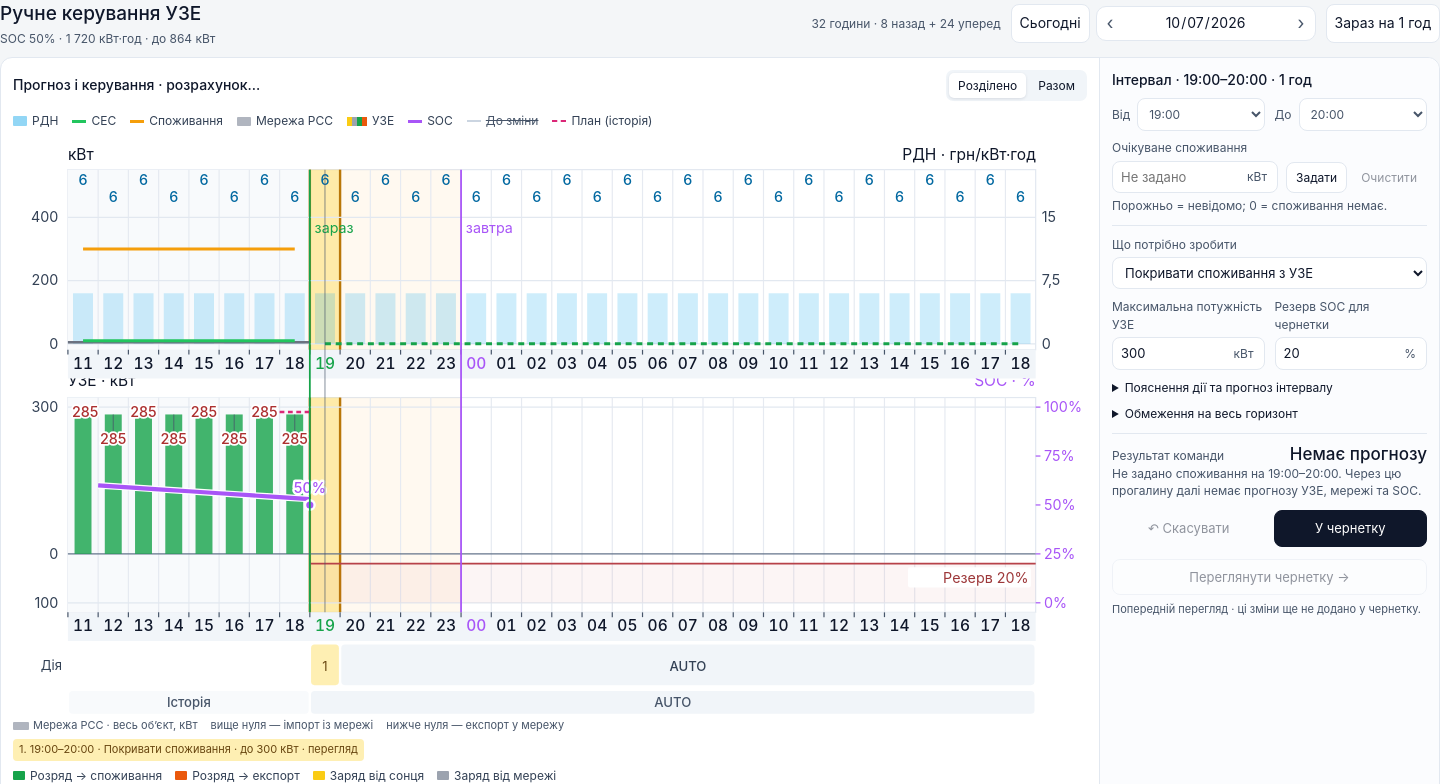
Scenario: DispatchDesk › opens a past day read-only and returns to the draft
expect the heading "Ручне керування УЗЕ" is shown: met, box x1=0 y1=0 x2=215 y2=28
Type "200" into the number field named "Споживання для вибраних годин". click: (1176, 177)
box: x1=1113 y1=162 x2=1239 y2=192
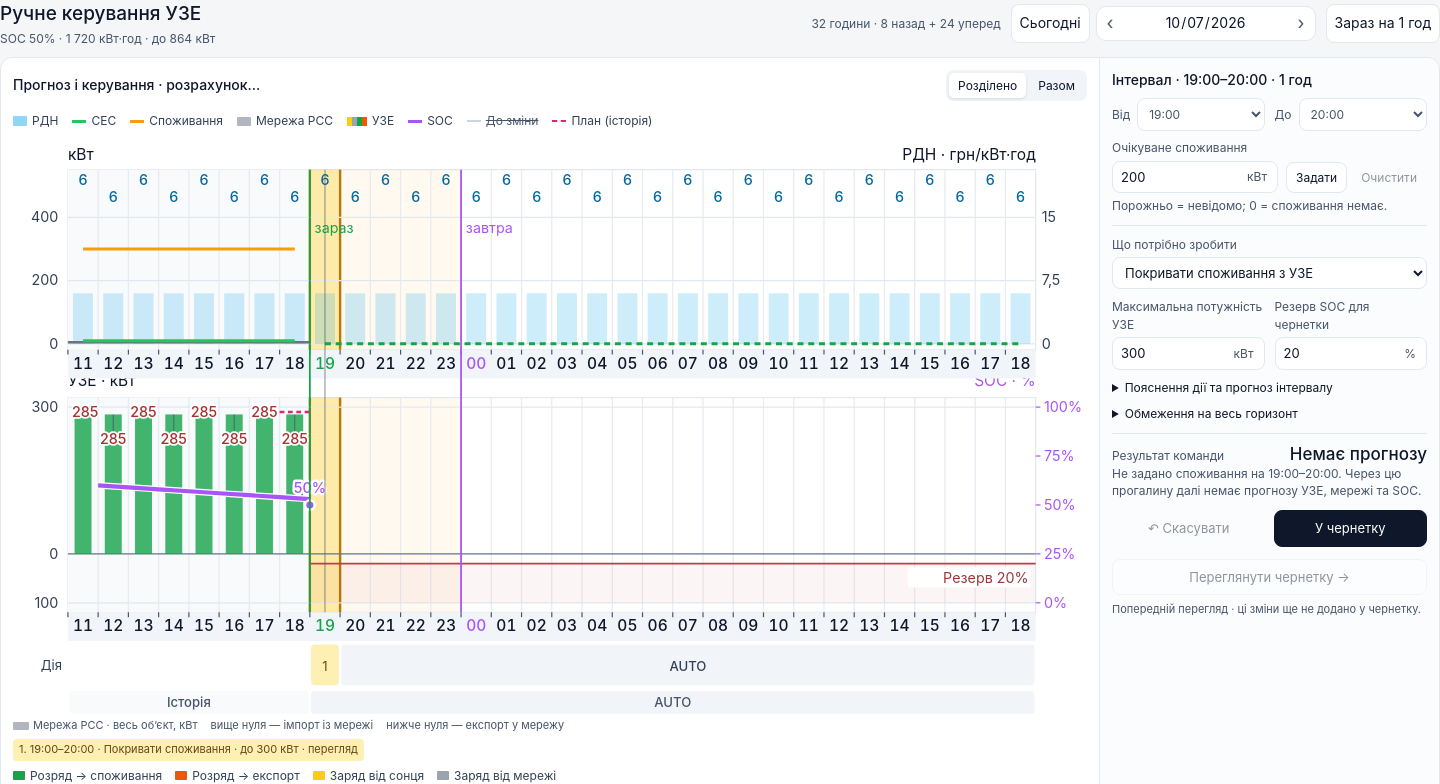
Click the button with aria-label "Задати споживання для вибраного інтервалу". click: (1317, 178)
box: x1=1286 y1=162 x2=1347 y2=194
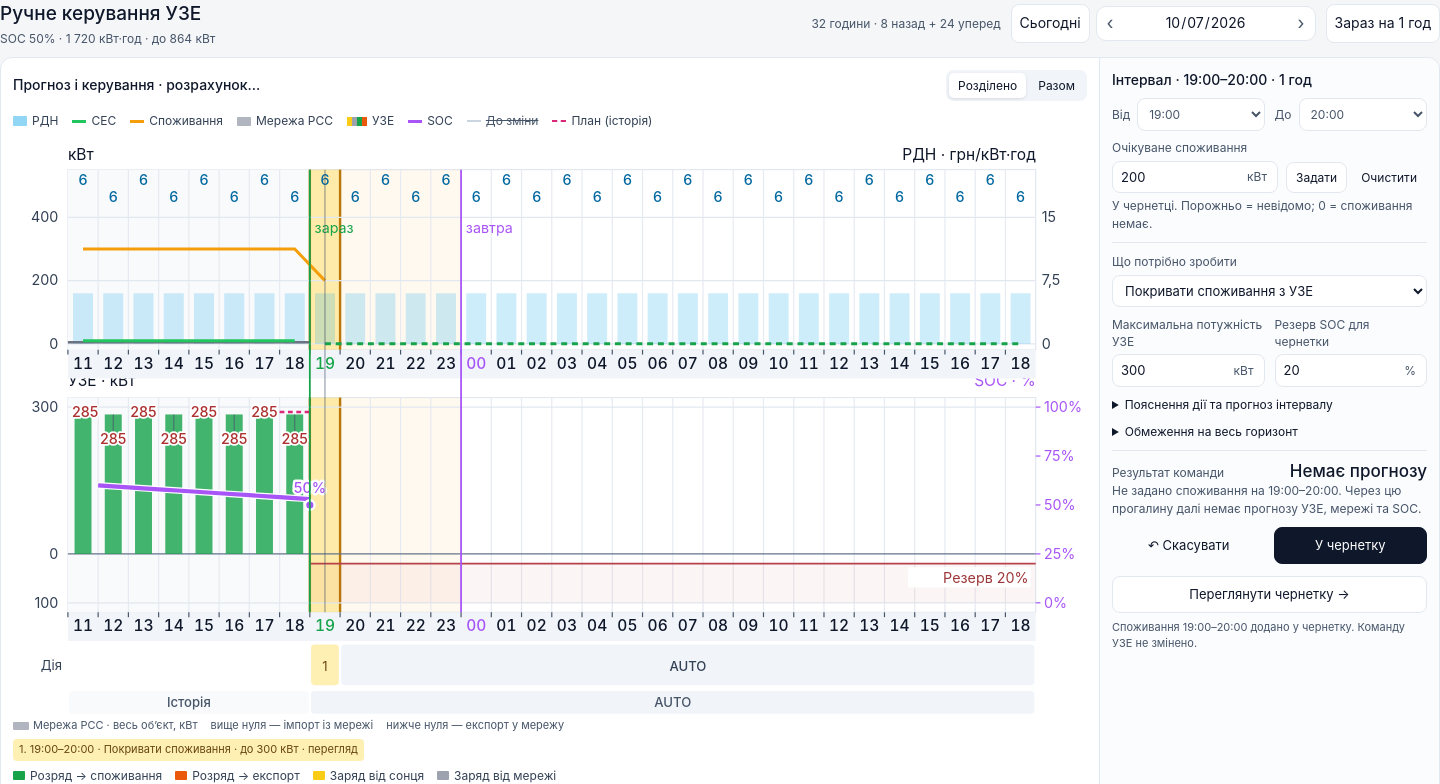
Note: The dashboard date picker: «‹» from today opens yesterday read-only.
Click the button named "Previous period". click: (1110, 24)
box: x1=1098 y1=10 x2=1121 y2=36
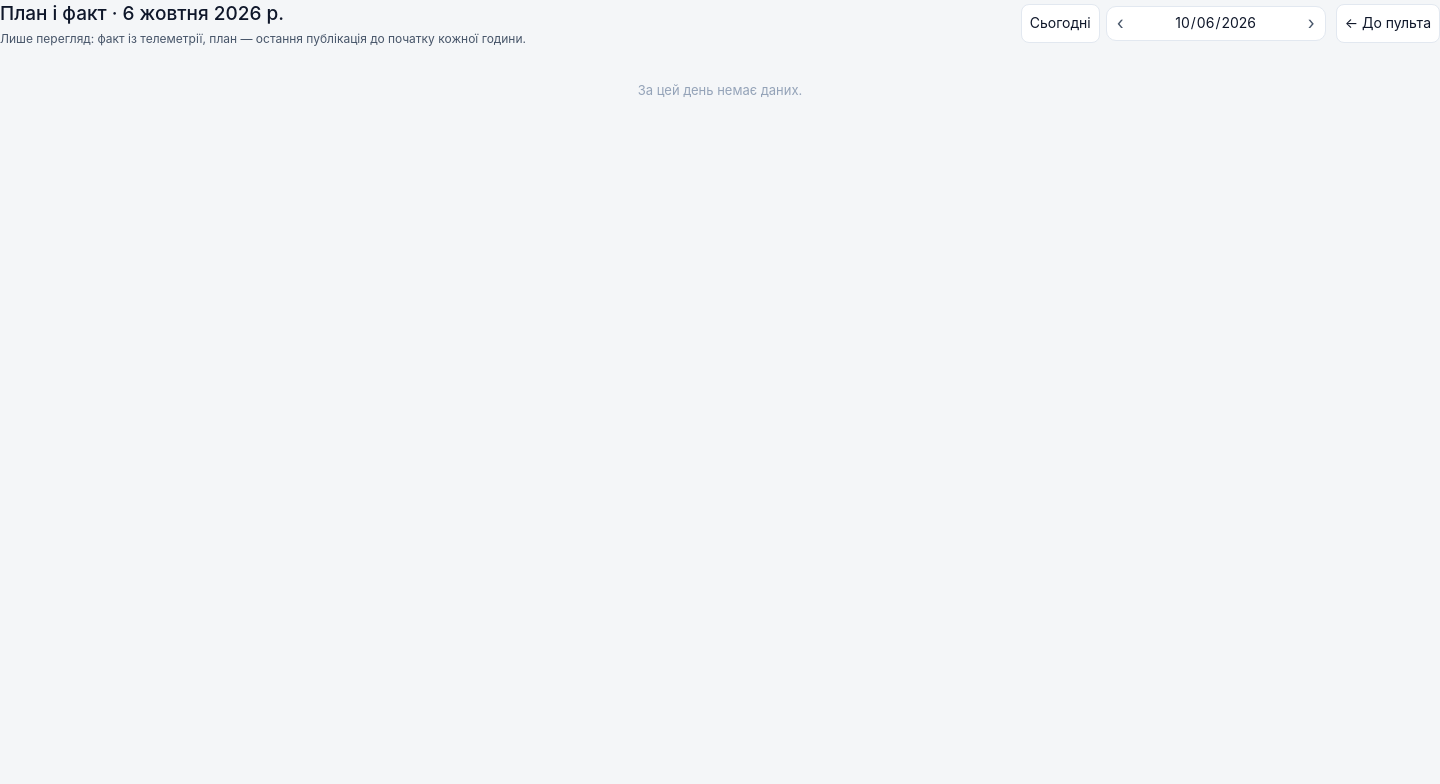
expect the text "За цей день немає даних." is shown: met, box x1=638 y1=82 x2=802 y2=98
expect the button "У чернетку" is gone: met
Click the button "← До пульта". click: (1388, 23)
box: x1=1336 y1=4 x2=1439 y2=43
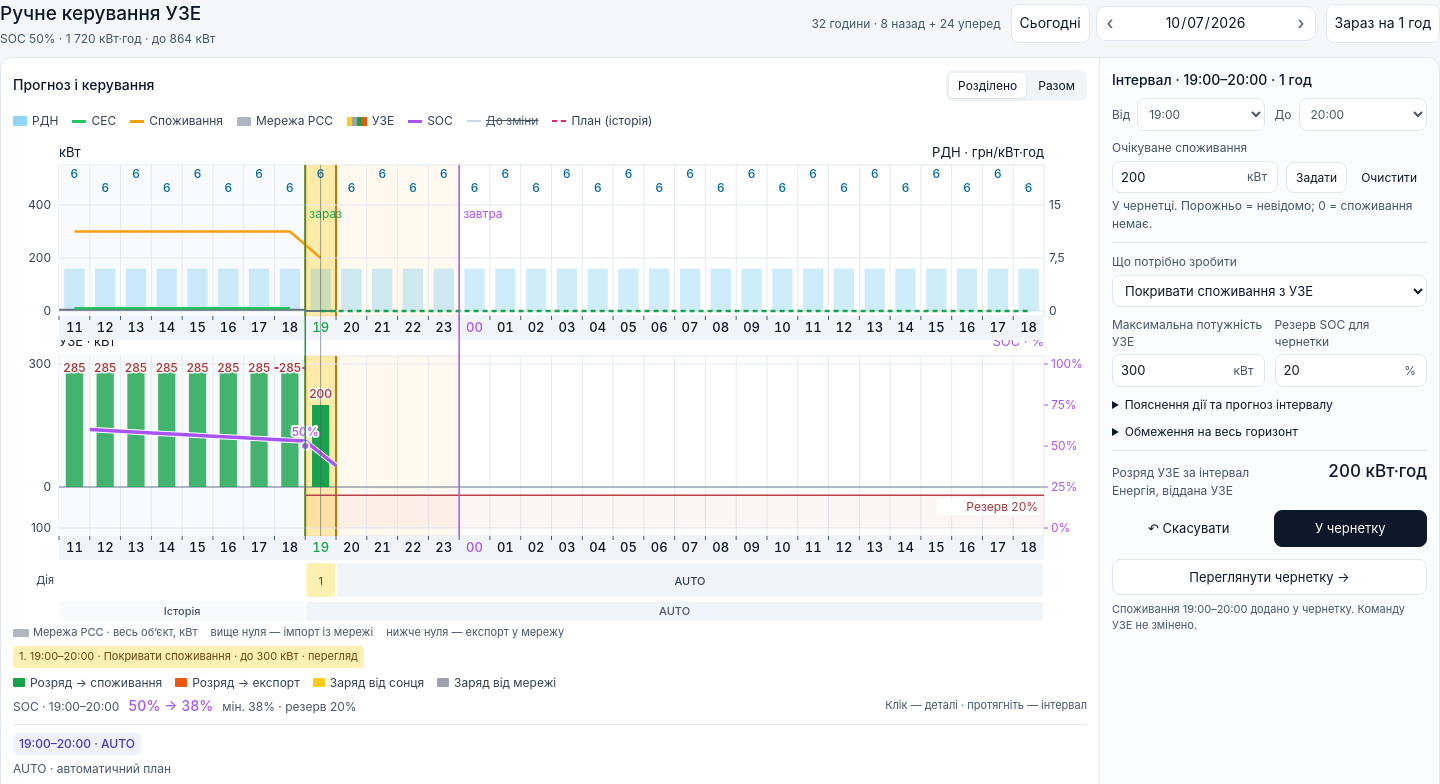
expect the heading "Ручне керування УЗЕ" is shown: met, box x1=0 y1=0 x2=215 y2=28
expect the button "Переглянути чернетку →" is enabled: met, box x1=1112 y1=558 x2=1427 y2=595
